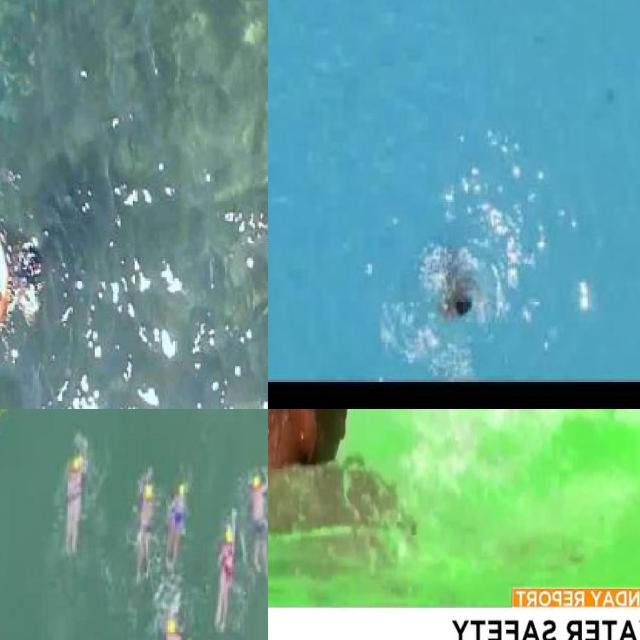swimming: (268, 409, 402, 561), (0, 214, 50, 348), (209, 517, 237, 639), (129, 464, 157, 586), (61, 443, 89, 564), (161, 483, 189, 583), (245, 466, 268, 587), (436, 270, 480, 315)
